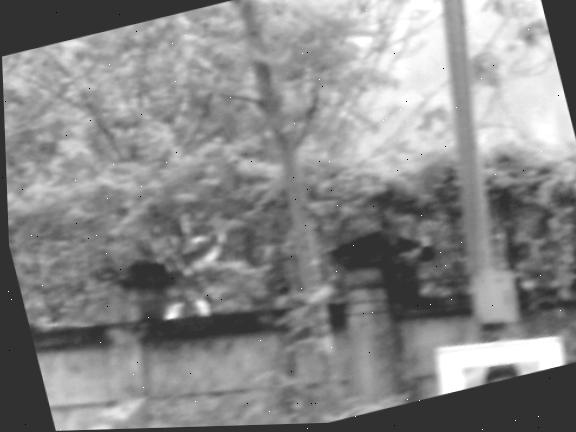bia: (461, 359, 543, 389)
